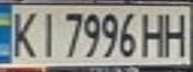6: (118, 9, 142, 58)
7: (57, 8, 84, 59)
9: (78, 9, 103, 58), (100, 9, 121, 58)
H: (136, 8, 172, 59), (160, 8, 193, 57)
I: (33, 7, 60, 58)
K: (3, 7, 42, 60)
